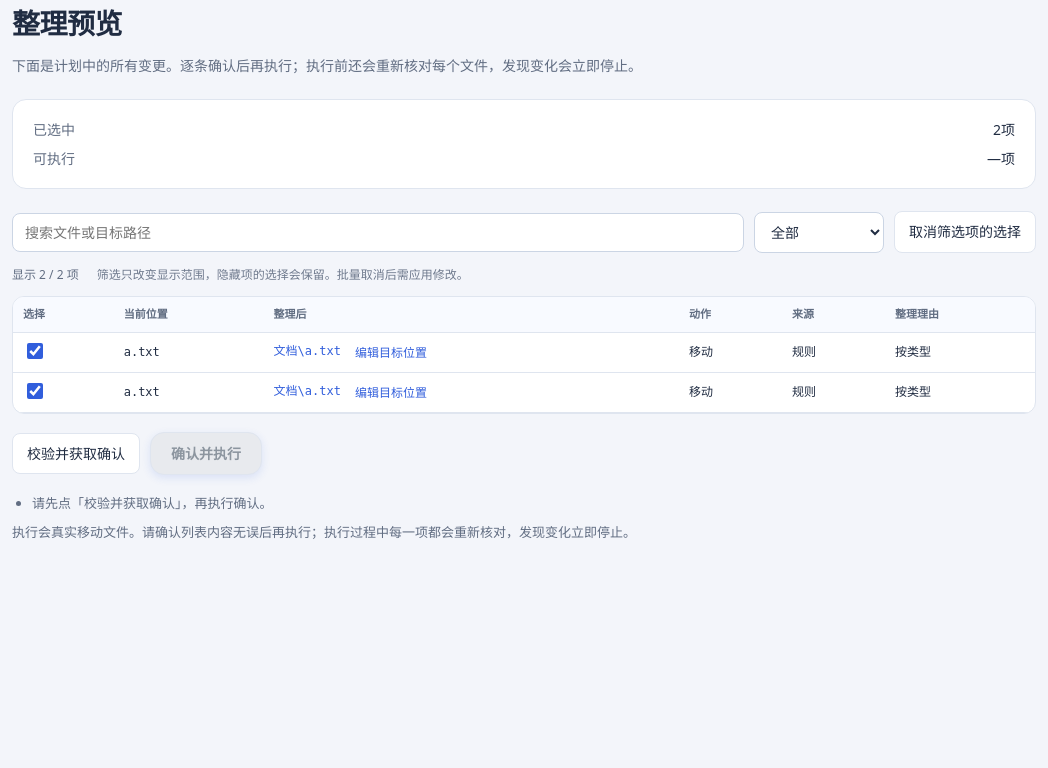
Test: 预览页 UI 接线 › 存在阻断项时不能确认，且理由对用户可见
Click the button "校验并获取确认" at (76, 453), box [12,432,140,474]
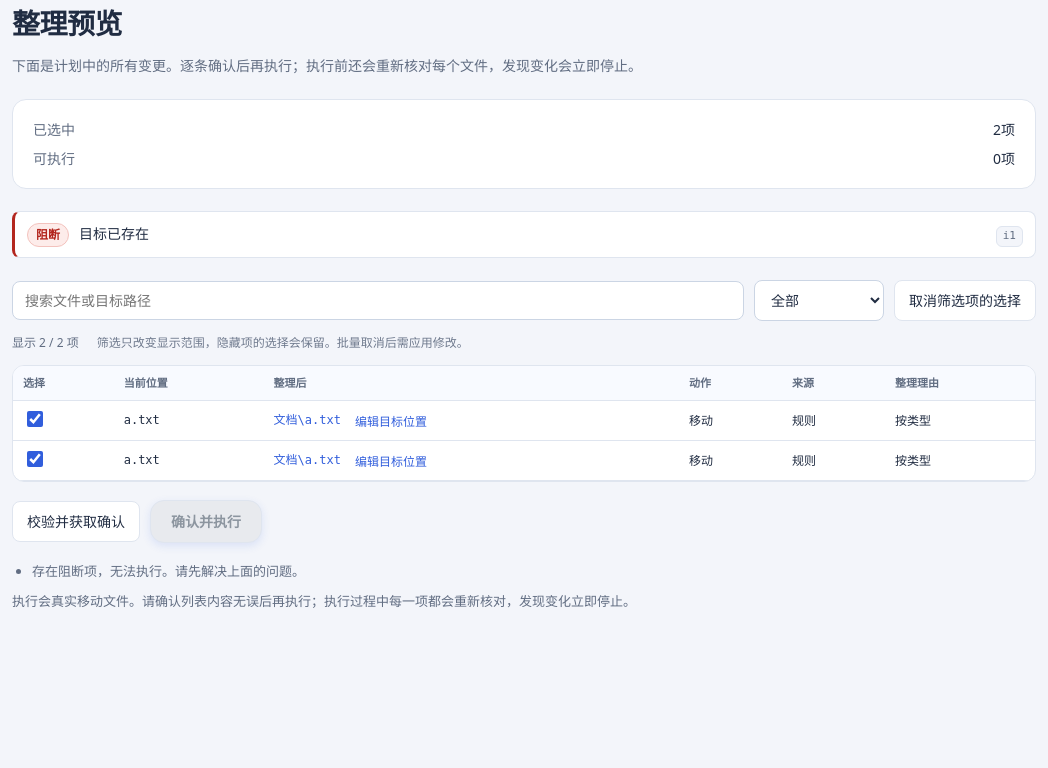
Check: the button "确认并执行" is disabled, box [150,500,262,543]
Check: the list item "存在阻断项，无法执行。请先解决上面的问题。" is shown, box [32,562,305,580]
